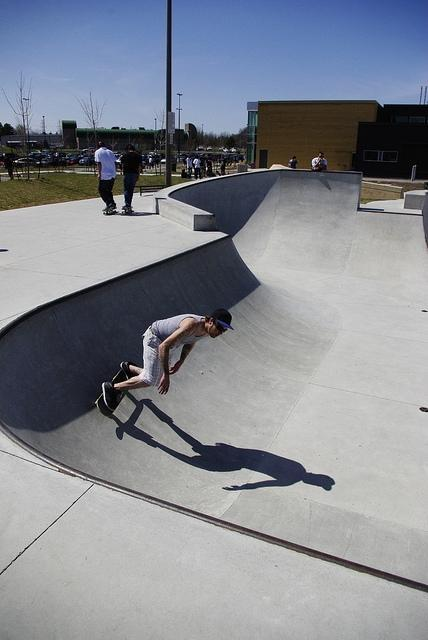car: (10, 156, 46, 169), (57, 156, 74, 166), (78, 156, 92, 167), (29, 152, 48, 158), (116, 155, 123, 168), (72, 158, 83, 165), (198, 145, 204, 151), (207, 146, 213, 150)
